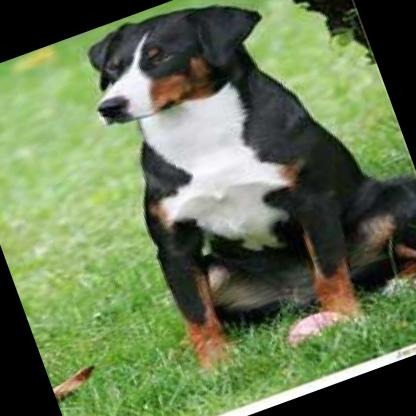Appenzeller: (59, 0, 416, 388)
